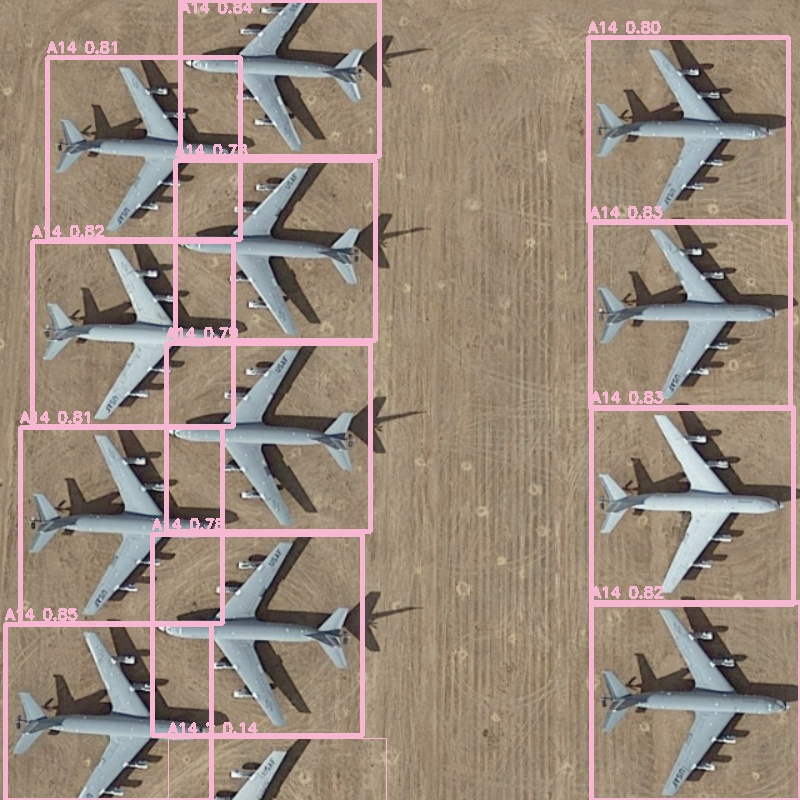A14: (152, 534, 362, 735), (591, 602, 800, 800), (591, 407, 793, 604), (20, 427, 222, 623), (166, 343, 370, 531), (590, 222, 790, 408), (32, 241, 233, 426), (588, 37, 788, 221), (5, 624, 211, 800), (175, 160, 375, 340), (47, 57, 240, 239), (180, 0, 379, 156), (168, 738, 386, 800)
